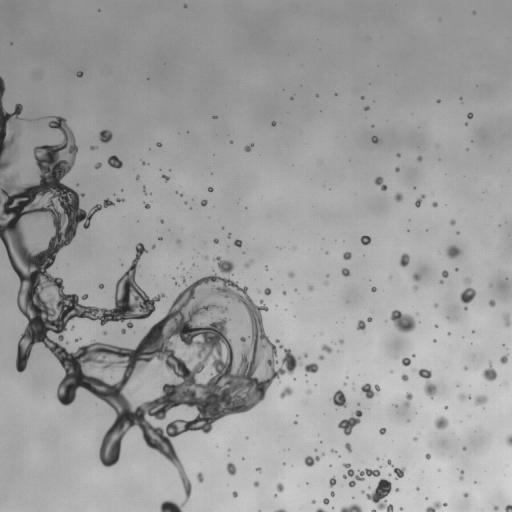droplet: (365, 478, 393, 511), (343, 463, 380, 487), (390, 310, 415, 333), (387, 460, 405, 479), (482, 362, 497, 381), (361, 383, 380, 398), (331, 390, 347, 407), (460, 287, 476, 303), (107, 155, 122, 168), (374, 176, 387, 191), (434, 416, 449, 429), (446, 245, 460, 258), (99, 130, 112, 143), (304, 456, 319, 466), (280, 386, 292, 398), (399, 253, 409, 267), (304, 363, 318, 373), (474, 395, 487, 405), (226, 462, 236, 475), (503, 313, 511, 326), (360, 235, 370, 245), (356, 320, 365, 331), (458, 393, 470, 401), (321, 344, 331, 353), (401, 357, 410, 366), (329, 476, 336, 487), (341, 268, 350, 276), (413, 272, 421, 281), (500, 354, 508, 363), (276, 483, 284, 492), (394, 193, 402, 201), (244, 144, 253, 151), (342, 252, 351, 259), (197, 472, 203, 482), (161, 174, 169, 181), (234, 239, 241, 247), (345, 443, 351, 452), (371, 136, 378, 143), (94, 162, 101, 169), (401, 374, 408, 381), (76, 71, 83, 77), (201, 199, 207, 206), (442, 270, 448, 277), (264, 288, 270, 295), (379, 428, 386, 434), (505, 504, 511, 511), (467, 112, 473, 118), (144, 202, 150, 208), (489, 300, 495, 306), (253, 481, 259, 487), (323, 498, 329, 504), (81, 294, 88, 299), (116, 198, 124, 202), (244, 262, 250, 267), (464, 278, 470, 283), (425, 453, 430, 459), (232, 491, 237, 497), (271, 121, 276, 126), (417, 156, 422, 161), (432, 202, 437, 207), (450, 220, 455, 225), (213, 238, 218, 243), (256, 467, 261, 472), (90, 146, 96, 150), (289, 271, 293, 277), (239, 319, 243, 325), (121, 328, 125, 334), (318, 355, 324, 359), (364, 106, 369, 110), (156, 142, 161, 146), (208, 187, 213, 191), (99, 284, 103, 289), (413, 285, 417, 290), (308, 286, 313, 290), (371, 287, 376, 291), (367, 317, 372, 321), (463, 493, 468, 497), (493, 506, 498, 510), (395, 167, 399, 171), (434, 303, 438, 307), (339, 339, 343, 343), (307, 390, 311, 394), (413, 437, 417, 441), (462, 446, 466, 450), (330, 492, 334, 496), (331, 449, 336, 452), (142, 161, 146, 164), (136, 175, 139, 179), (283, 291, 286, 295), (103, 331, 106, 335), (75, 338, 79, 341), (437, 99, 440, 102), (397, 153, 400, 156), (177, 240, 180, 243), (152, 245, 155, 248), (205, 256, 208, 259), (439, 280, 442, 283), (71, 326, 74, 329), (464, 367, 467, 370), (343, 382, 346, 385), (294, 421, 297, 424), (361, 490, 364, 493), (312, 500, 315, 503), (228, 233, 230, 237), (361, 96, 363, 99), (230, 140, 232, 143), (175, 191, 178, 193), (160, 220, 163, 222), (159, 237, 161, 240), (464, 307, 467, 309), (433, 339, 436, 341), (304, 354, 307, 356), (444, 406, 447, 408), (416, 487, 419, 489), (396, 488, 398, 491), (274, 494, 277, 496), (400, 507, 402, 510), (214, 116, 216, 118), (38, 118, 40, 120), (180, 194, 182, 196), (265, 267, 267, 269), (455, 268, 457, 270), (175, 282, 177, 284), (435, 325, 437, 327), (448, 332, 450, 334), (413, 369, 415, 371), (352, 388, 354, 390)
ligament: (0, 77, 302, 511), (338, 410, 362, 435), (417, 368, 436, 398), (426, 501, 446, 511), (340, 504, 363, 511), (415, 194, 425, 207), (404, 392, 412, 407), (24, 118, 37, 125), (506, 434, 511, 446), (129, 388, 136, 394), (459, 471, 463, 480), (315, 508, 325, 511), (143, 186, 146, 194), (182, 277, 185, 284), (275, 509, 285, 511), (258, 510, 261, 511)
